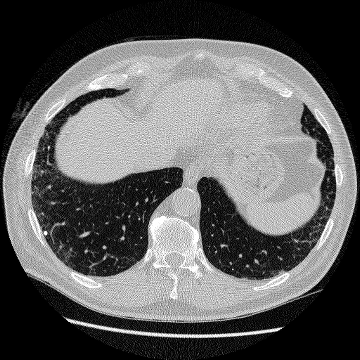nodule: (43, 231, 47, 235)
